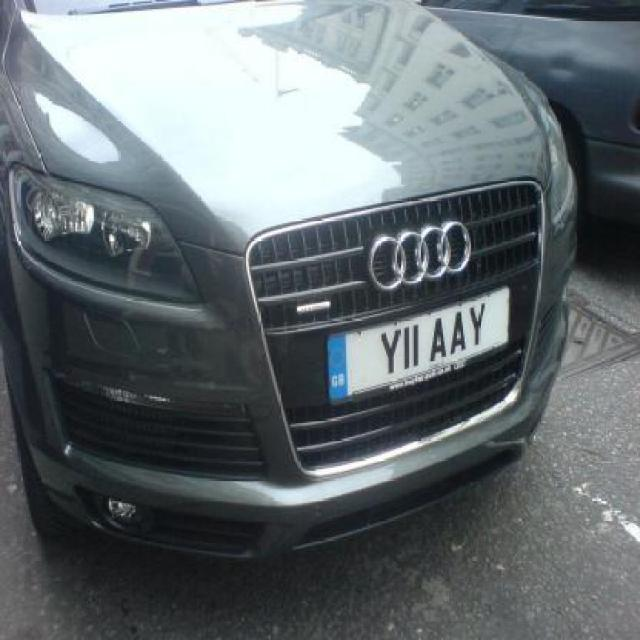License-Plates: (328, 285, 512, 406)
